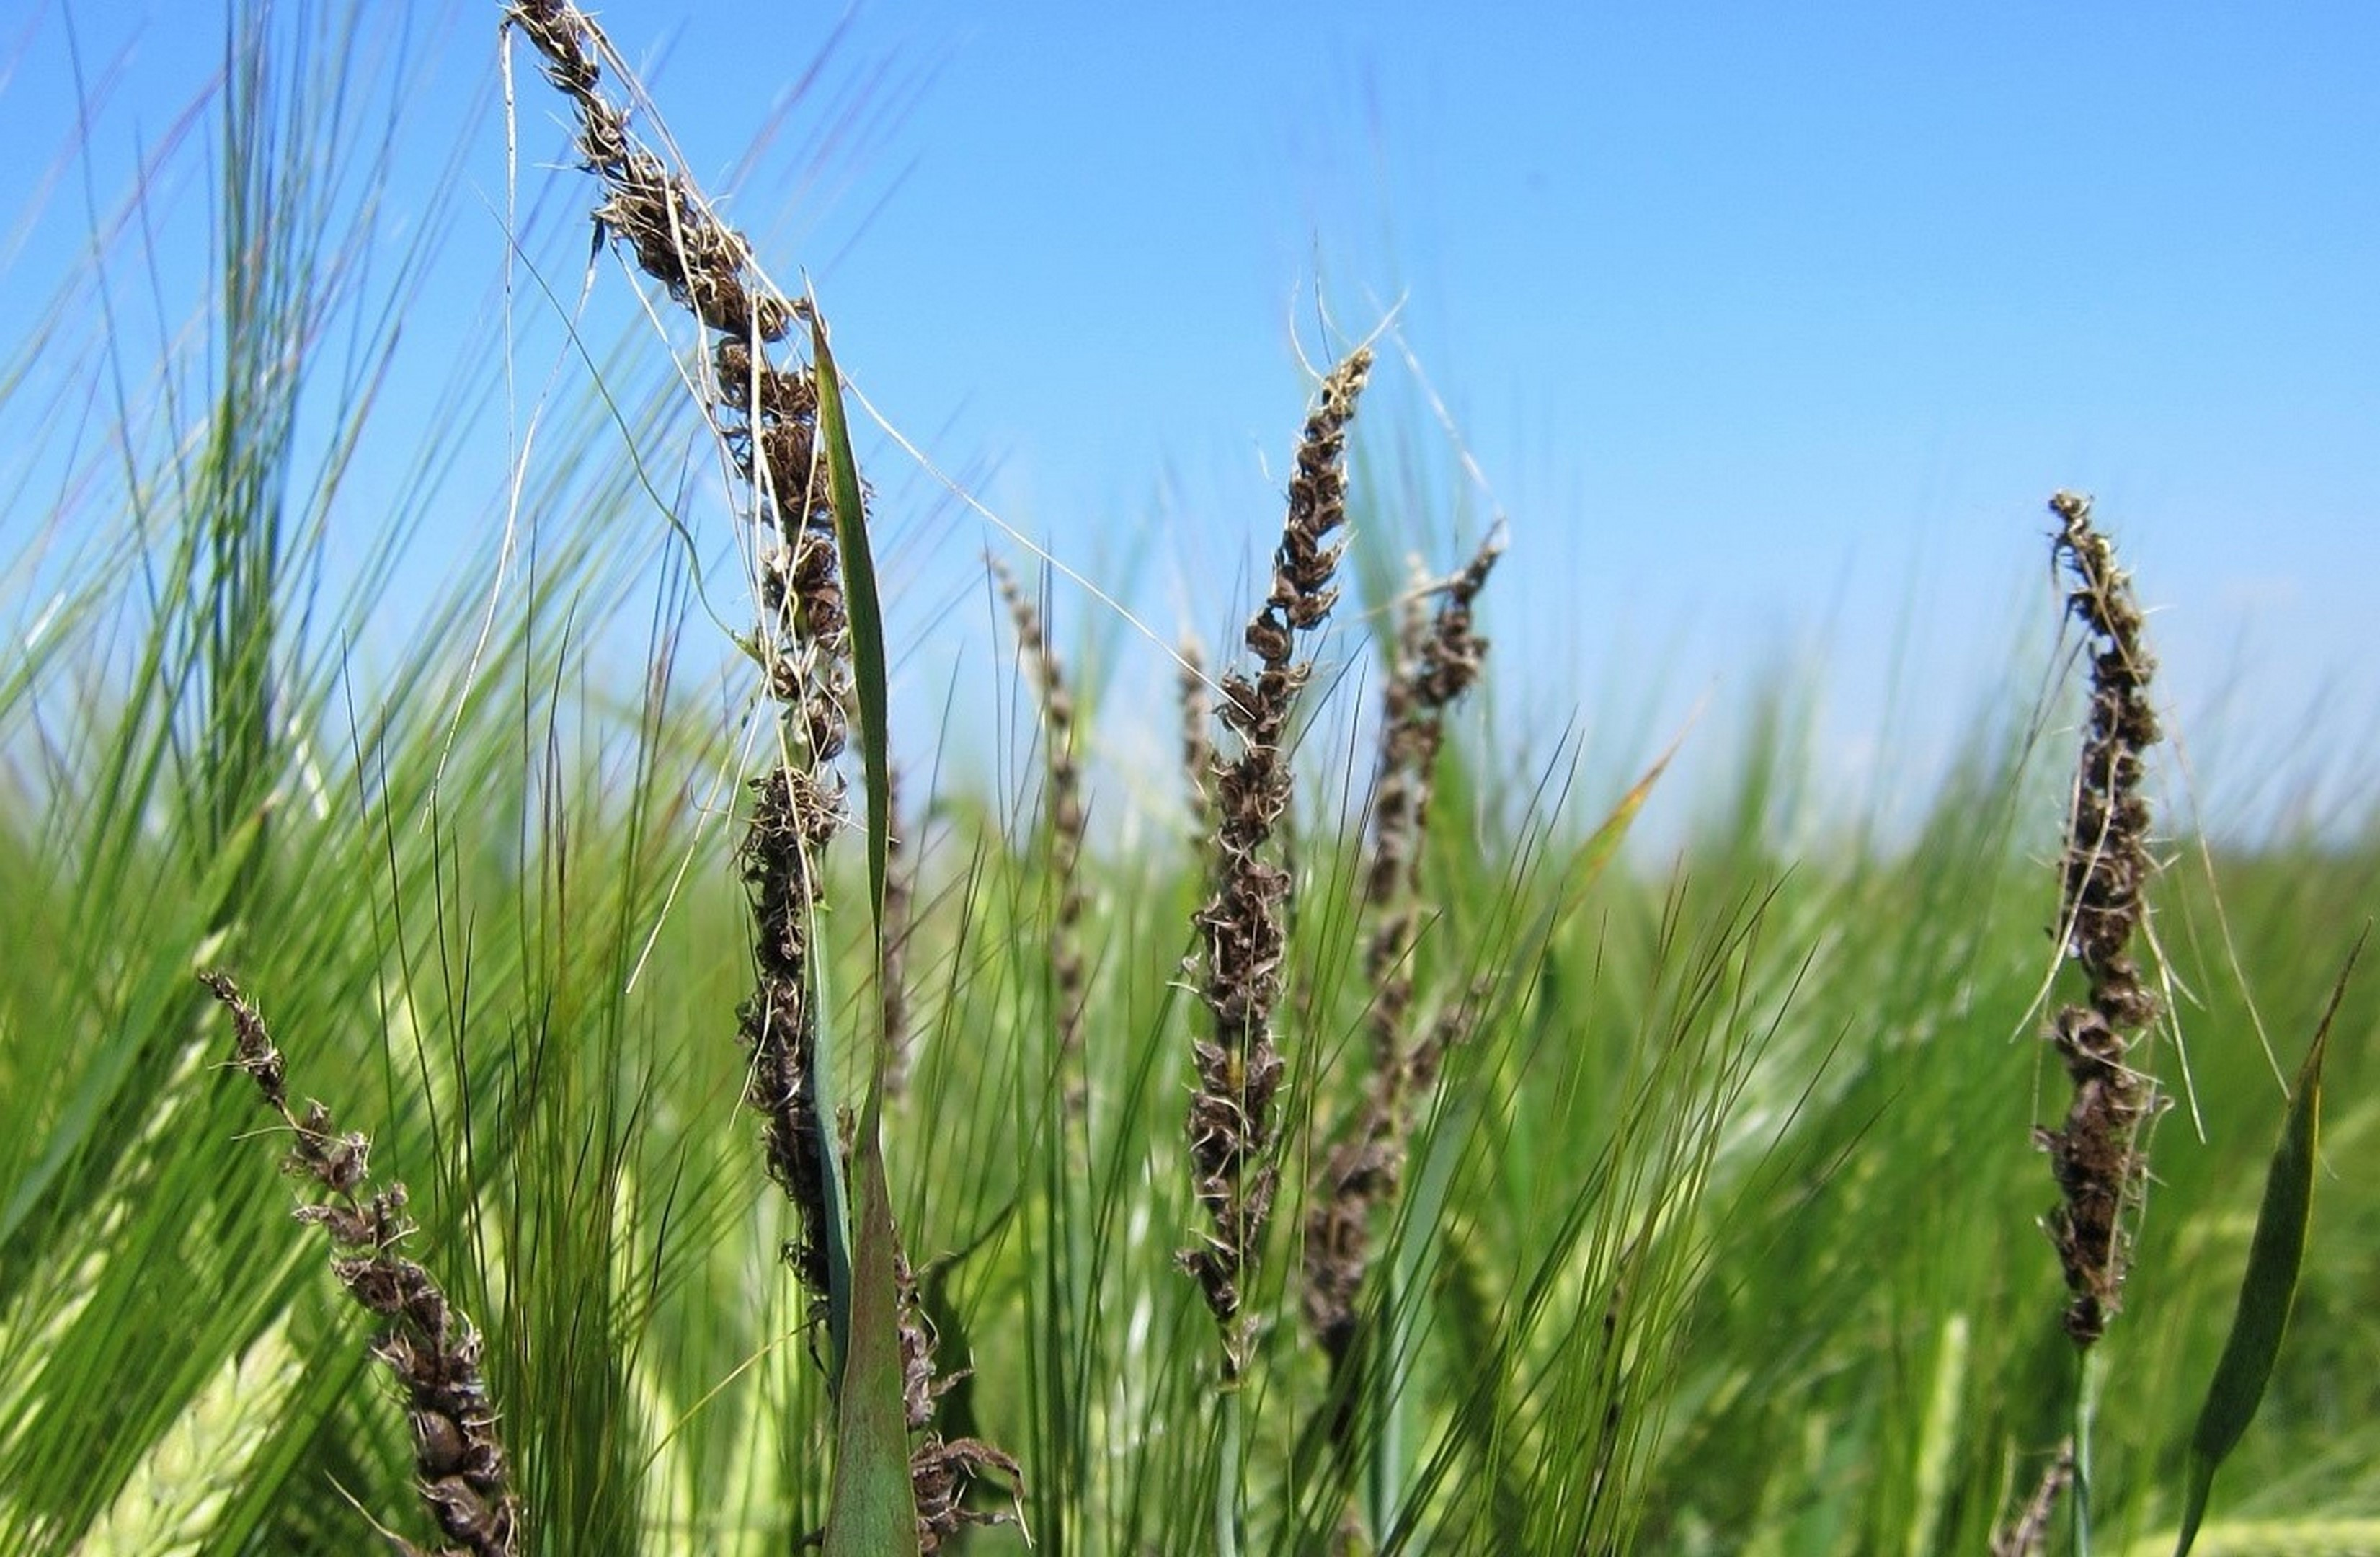Wheat Loose Smut: (525, 12, 914, 716), (1953, 466, 2218, 1329), (177, 970, 547, 1557), (1154, 332, 1346, 1298)
